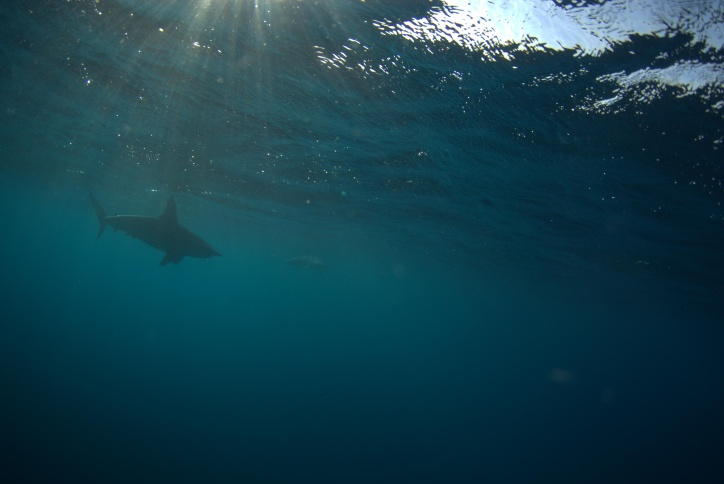Hammer: (71, 175, 226, 280)
